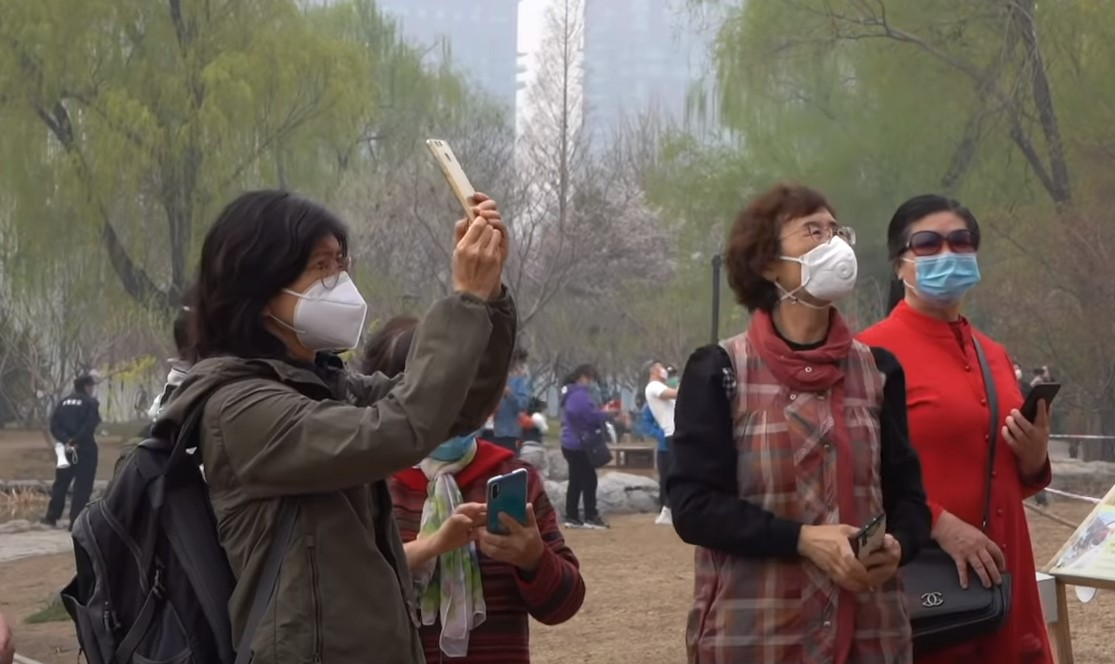face_with_mask: (209, 186, 367, 358), (723, 182, 865, 314), (887, 197, 990, 307)
